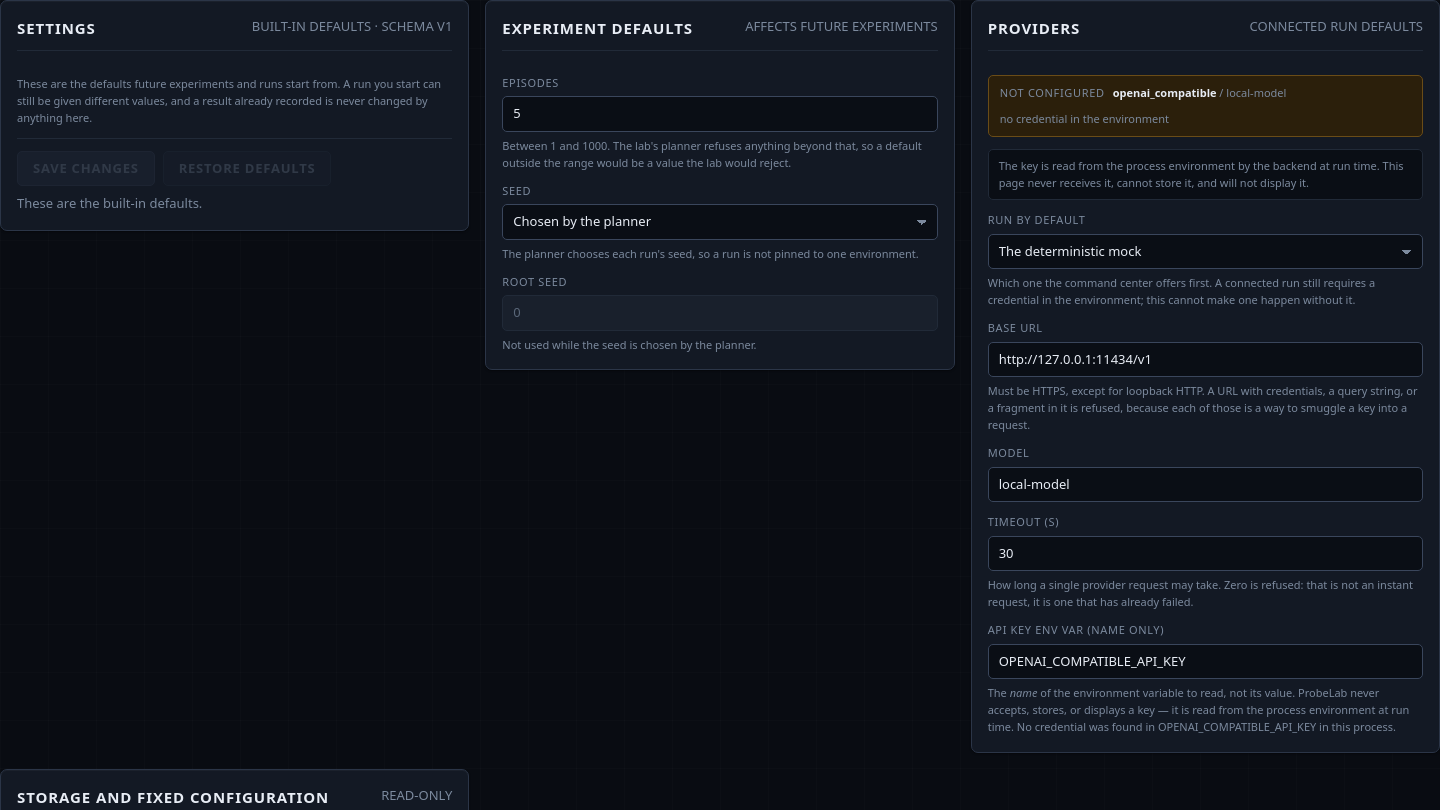
Test: saving › renders the document the backend stored, not the one that was typed
Replace the text in the number field labelled "EPISODES" with "9": (720, 114) [502,96,938,132]
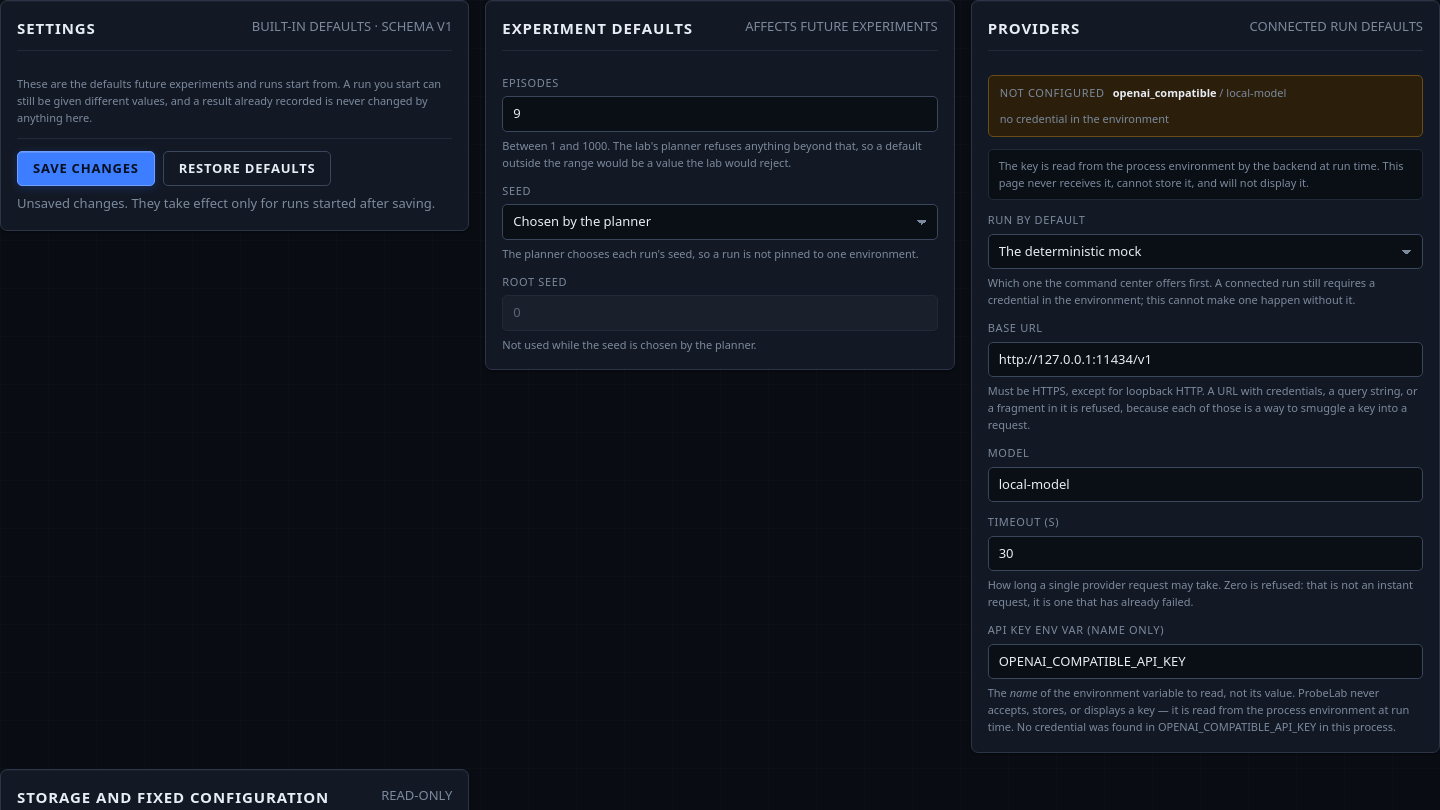
Click the button "SAVE CHANGES": click(86, 168) [17,151,155,186]
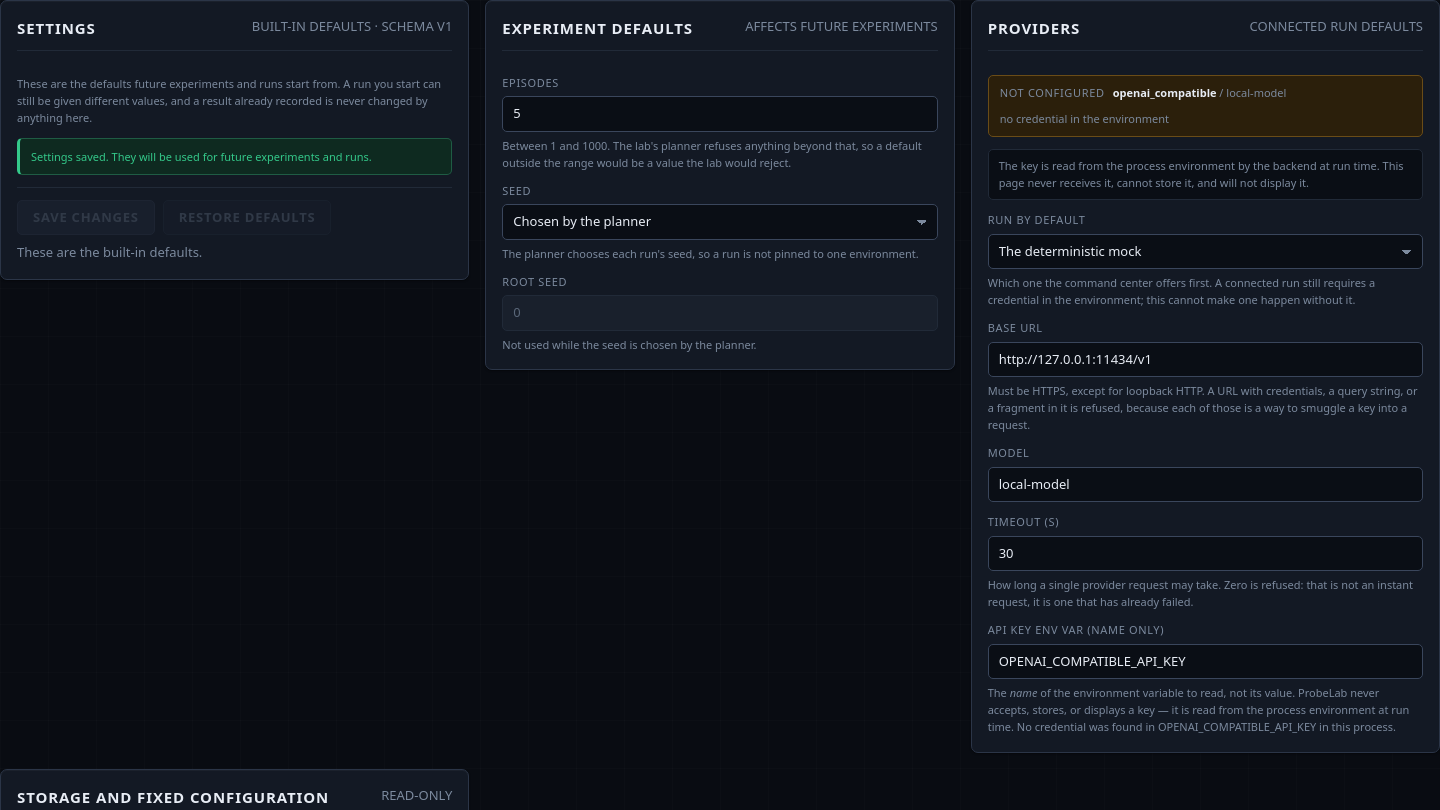
Result: the number field labelled "EPISODES" holds "5" at [502,96,938,132]
Result: the text "Unsaved changes" is gone
